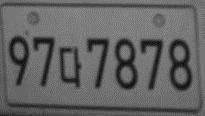7: (86, 37, 109, 89), (140, 38, 163, 90), (32, 35, 55, 86)
8: (113, 37, 138, 90), (167, 38, 192, 91)
9: (7, 34, 30, 86)
다: (58, 46, 83, 88)
